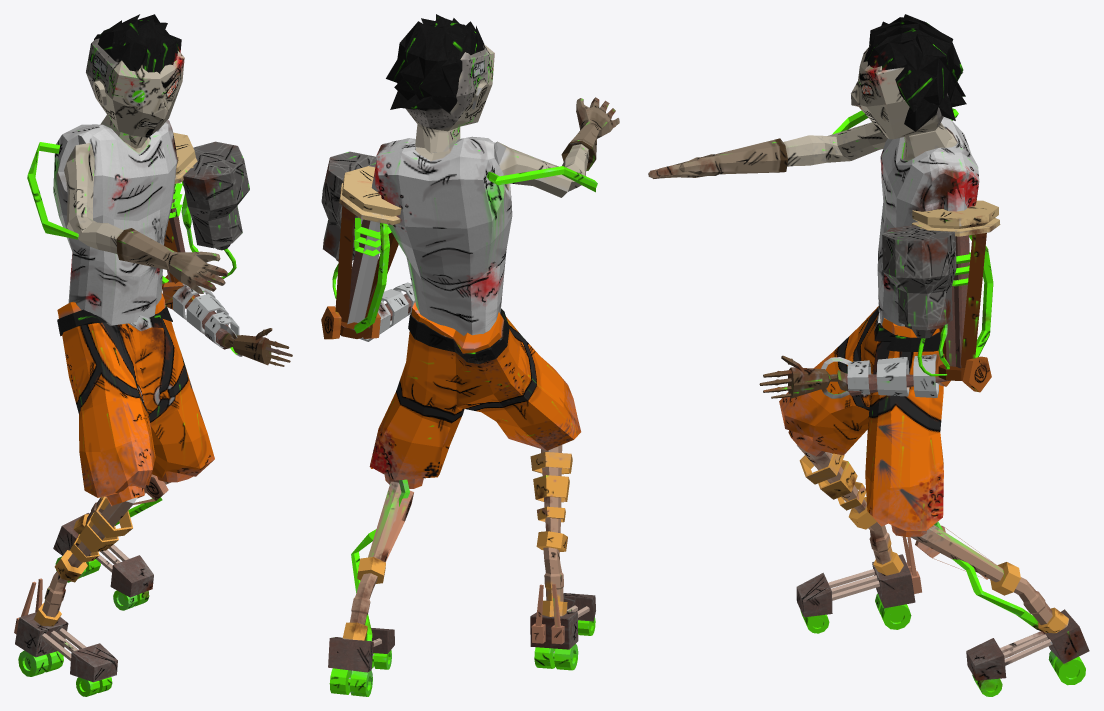
The model's file is CyborgFINALAnimation_000015.obj.
3 views of the same model, side by side, from view 1: azimuth 30°, elevation 25°; view 2: azimuth 150°, elevation 25°; view 3: azimuth 270°, elevation 25° (orthographic). The views are drawn at different scales.
Visible parts, largest first — view 1: CyborgMesh_Cube.002; view 2: CyborgMesh_Cube.002; view 3: CyborgMesh_Cube.002.
Part boxes in pixels (bbox=[...]): CyborgMesh_Cube.002: bbox=[14, 14, 292, 696]; CyborgMesh_Cube.002: bbox=[321, 14, 619, 696]; CyborgMesh_Cube.002: bbox=[648, 14, 1089, 696].
Bounding box in the file's own units: 3.58 × 8.99 × 5.49.
